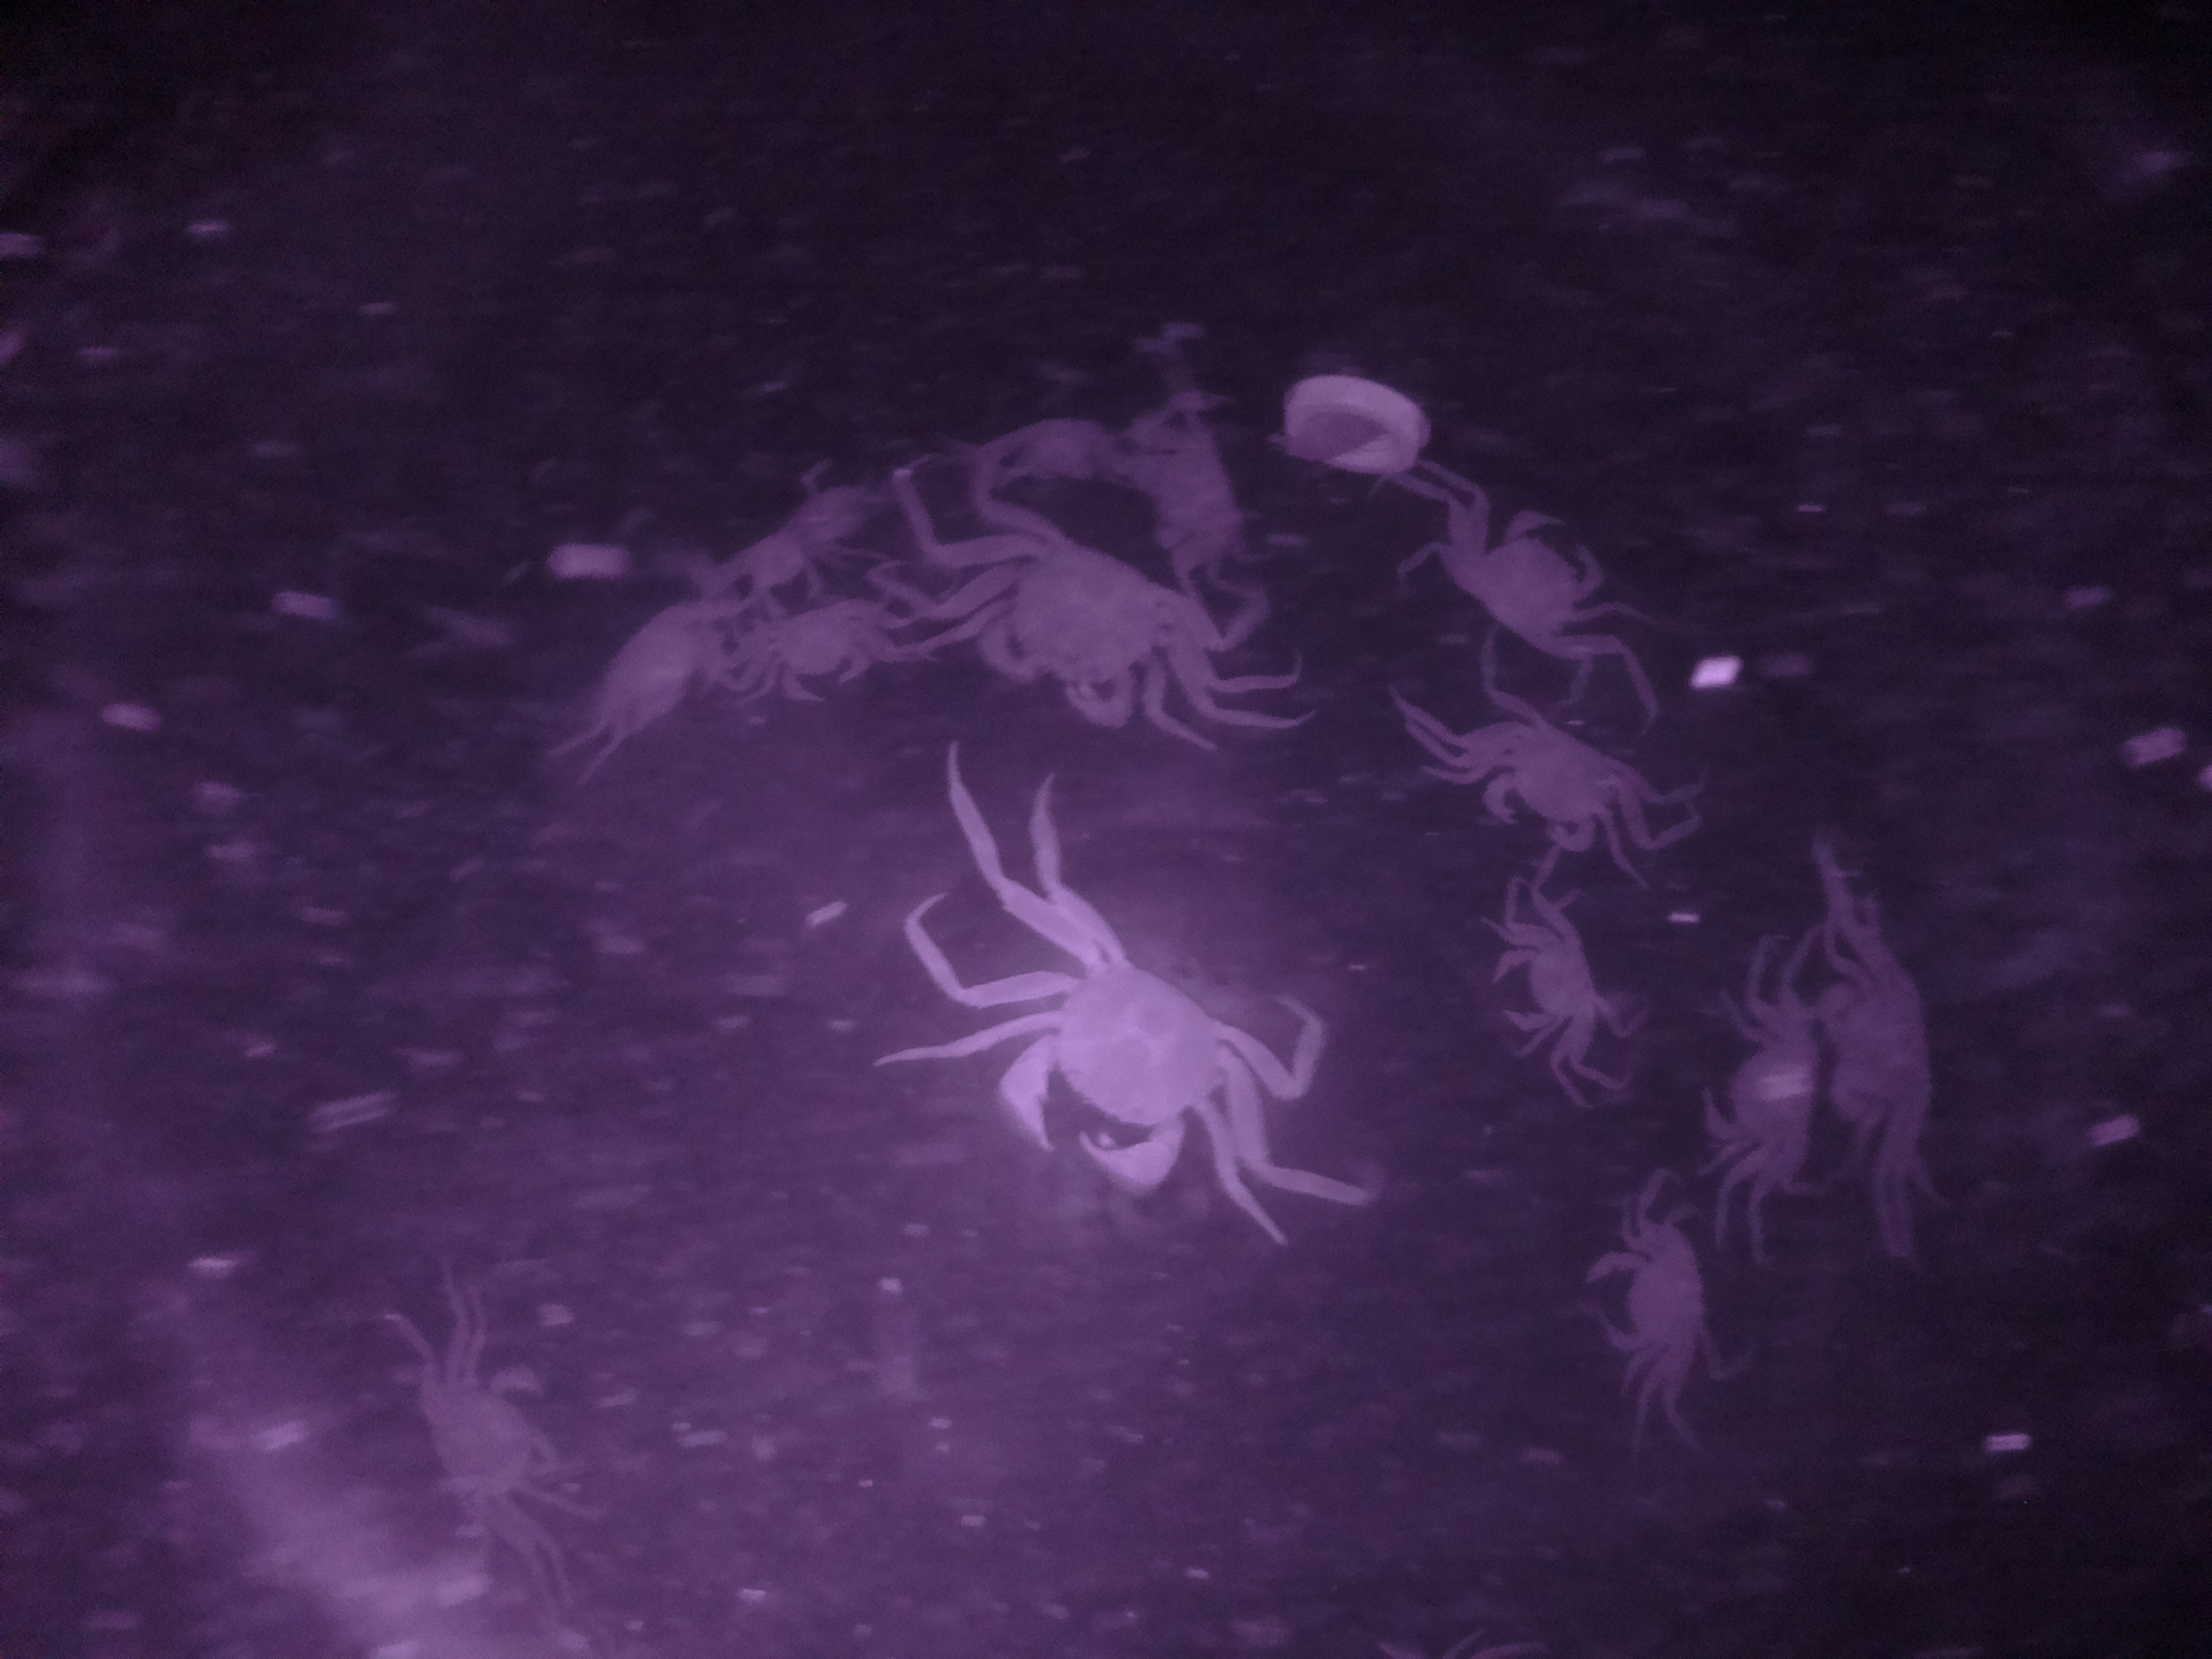Crab: (963, 932, 1270, 1209), (956, 507, 1204, 742), (1451, 701, 1637, 870), (1437, 498, 1613, 676), (1681, 1000, 1832, 1195), (1566, 1220, 1723, 1378), (723, 582, 907, 713), (1489, 908, 1611, 1066)
